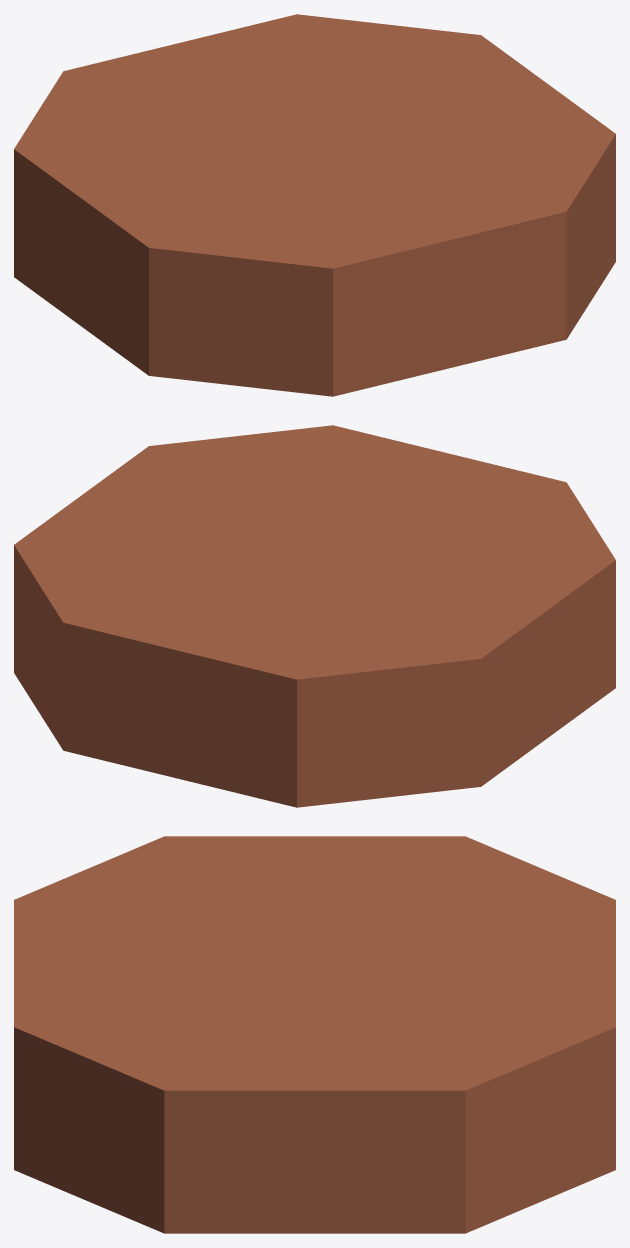
File: MovingPlatform2.fbx
The picture shows the model from 3 angles, top to bottom: view 1: azimuth 30°, elevation 25°; view 2: azimuth 150°, elevation 25°; view 3: azimuth 270°, elevation 25°; orthographic projection. The views are drawn at different scales.
Parts seen in each view (by area): view 1: pCube1; view 2: pCube1; view 3: pCube1.
Part boxes in pixels (x1,y1,x2,y2): pCube1: [14, 14, 615, 396]; pCube1: [14, 425, 615, 807]; pCube1: [14, 836, 615, 1233].
Bounding box in the file's own units: 1.79 × 0.4699 × 1.79.
